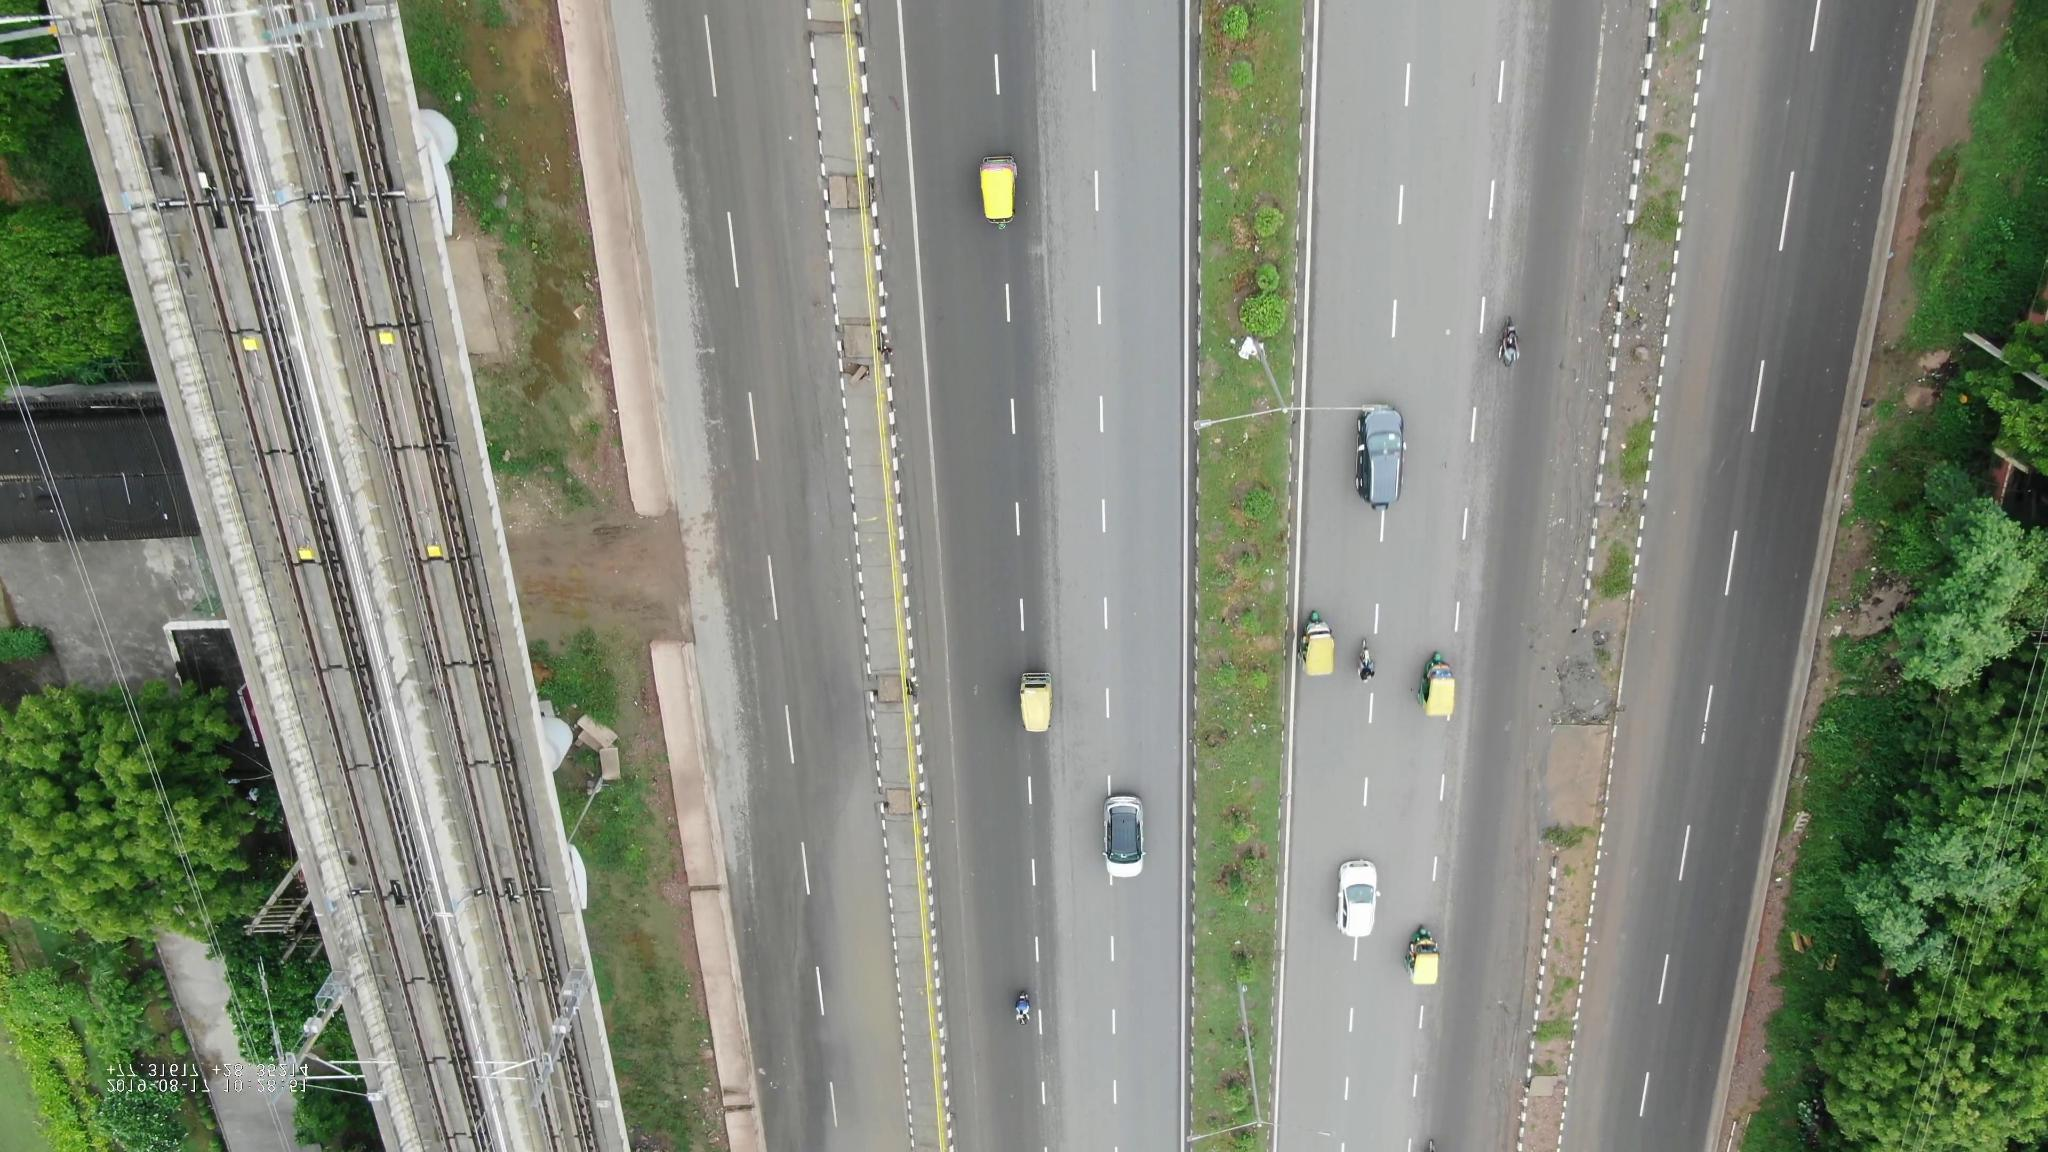Muddy_road: (1459, 858, 1549, 1148), (1546, 243, 1615, 525), (1502, 570, 1577, 807)
Ravelling: (1035, 271, 1076, 587), (1037, 17, 1082, 259)
Waterlogging: (827, 778, 900, 1111)
